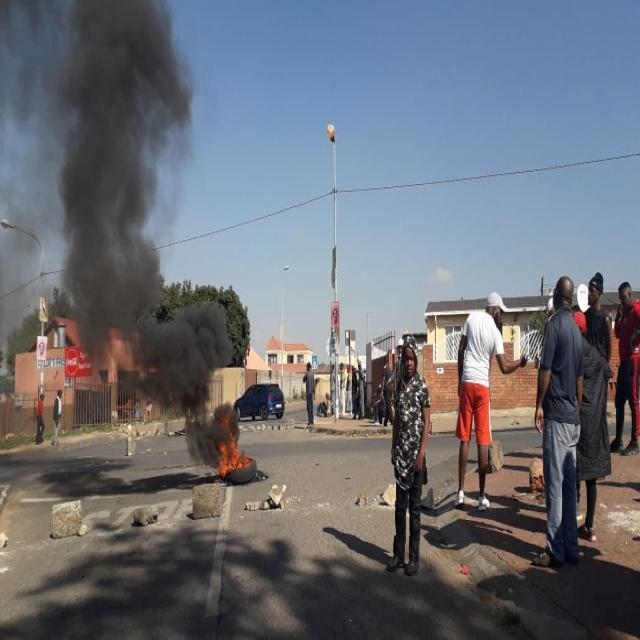smoke: (1, 6, 163, 312), (168, 309, 224, 412)
